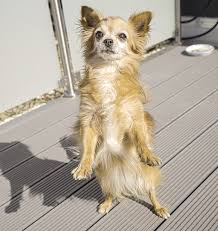Bulldog: (67, 5, 179, 227)
